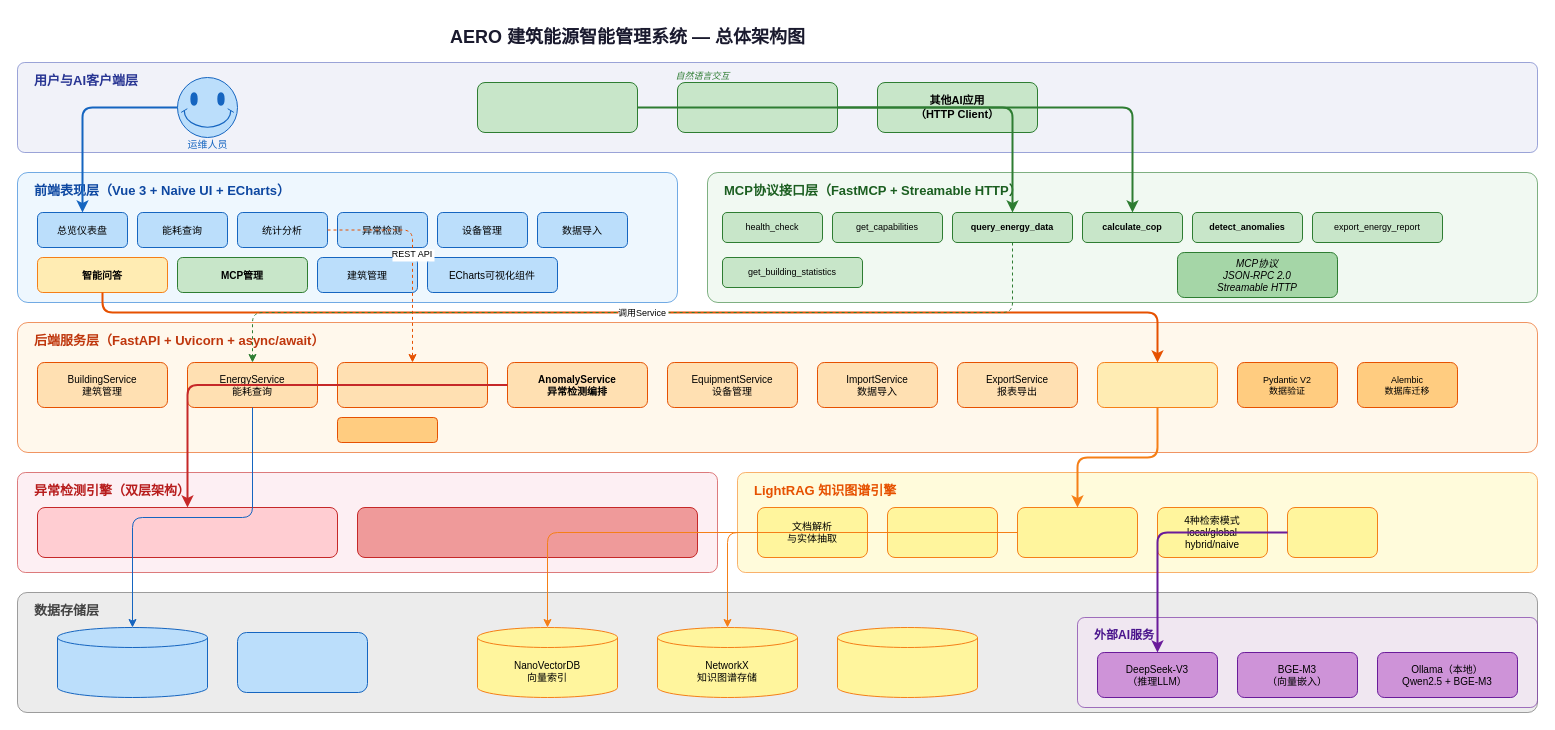
Image size: 1555x730. Some labels were removed from this diagram. Here are the shapes that lost their labels. From the top down, the centre of each, then its label:
pixel 207 107: 运维人员 （Web浏览器）
pixel 557 107: Claude Desktop （MCP Client）
pixel 757 107: Cherry Studio （MCP Client）
pixel 412 385: StatisticsService 统计分析 + COP
pixel 1157 385: QAService 智能问答
pixel 387 429: COP计算引擎
pixel 187 532: 第一层：ThresholdDetector 阈值检测（能耗突增 / COP异常 / 温度偏差） 响应时间 < 10ms
pixel 527 532: 第二层：SAR-AD 深度检测 结构感知路由 × 多传感器时序异常检测 多尺度融合 + 异常传播路径分析
pixel 942 532: 知识图谱 构建与更新
pixel 1077 532: 双层检索 Low+High Level
pixel 1332 532: 流式问答 输出
pixel 132 662: PostgreSQL 能耗时序数据
pixel 302 662: buildings energy_records equipment anomaly_events
pixel 907 662: JsonKV 文档状态存储
